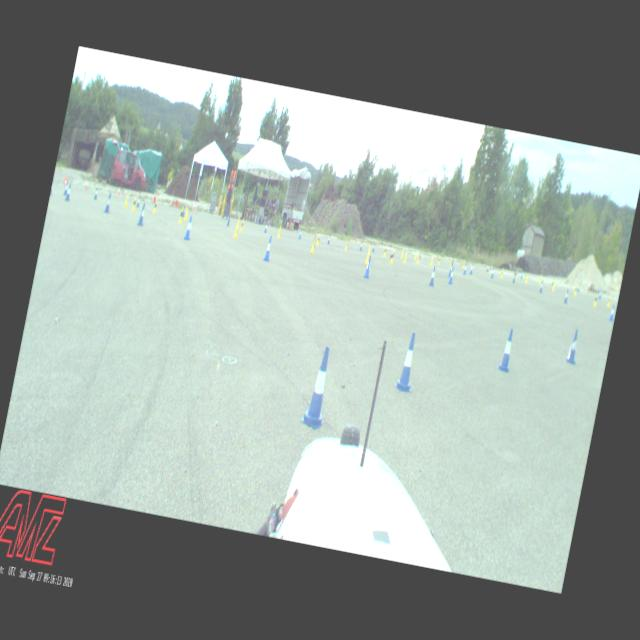blue_cone: (302, 348, 336, 426), (394, 334, 420, 392), (497, 328, 518, 372), (566, 328, 582, 364), (263, 236, 274, 262), (183, 214, 194, 240), (364, 256, 373, 279), (138, 204, 146, 226), (104, 194, 113, 213), (429, 266, 437, 286), (448, 267, 456, 285), (65, 183, 73, 201), (609, 304, 616, 322), (564, 288, 570, 304), (50, 178, 55, 196), (538, 280, 544, 293), (226, 215, 232, 228), (490, 266, 496, 278), (448, 262, 453, 276), (463, 262, 468, 275), (94, 187, 99, 200), (64, 182, 69, 194), (470, 262, 474, 275), (182, 205, 186, 218), (359, 241, 364, 251), (298, 228, 302, 240), (512, 271, 516, 283), (264, 222, 268, 233), (327, 234, 331, 244), (598, 290, 602, 300), (520, 270, 524, 279), (486, 264, 490, 272), (372, 244, 376, 252), (419, 252, 422, 260)
orange_cone: (193, 202, 197, 212), (117, 187, 121, 196), (85, 180, 88, 189)
yellow_cone: (178, 206, 185, 224), (233, 223, 240, 238), (132, 196, 138, 212), (124, 193, 130, 209), (364, 248, 370, 264), (310, 239, 316, 255), (390, 249, 396, 264), (592, 294, 598, 308), (240, 218, 245, 232), (153, 200, 158, 213), (551, 278, 556, 291), (403, 250, 408, 263), (607, 296, 612, 308), (344, 238, 349, 250), (277, 226, 282, 238), (416, 252, 421, 264), (499, 268, 504, 279), (316, 234, 321, 245), (184, 207, 188, 220), (383, 246, 388, 256), (574, 284, 578, 296), (430, 254, 434, 266), (525, 272, 529, 284), (312, 234, 316, 246), (400, 249, 404, 259), (462, 258, 466, 268), (449, 258, 453, 268), (489, 264, 493, 274), (437, 256, 441, 264), (538, 276, 542, 284), (414, 252, 417, 260)
